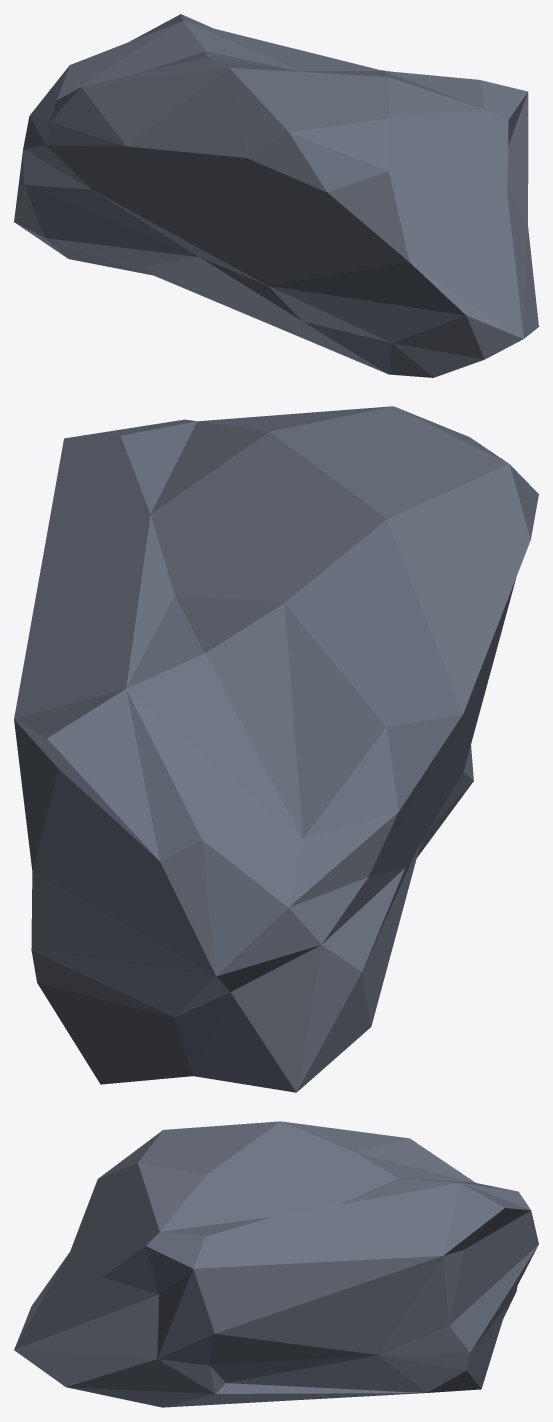
The model's file is stone4.fbx.
The picture shows the model from 3 angles, top to bottom: view 1: azimuth 30°, elevation 25°; view 2: azimuth 150°, elevation 25°; view 3: azimuth 270°, elevation 25°; orthographic projection. The views are drawn at different scales.
Parts seen in each view (by area): view 1: stone2; view 2: stone2; view 3: stone2.
Boxes of the visible parts, x1=… form: stone2: x1=14, y1=14, x2=538, y2=377; stone2: x1=14, y1=406, x2=538, y2=1092; stone2: x1=14, y1=1121, x2=538, y2=1407.
Bounding box in the file's own units: 125 × 96.26 × 189.
